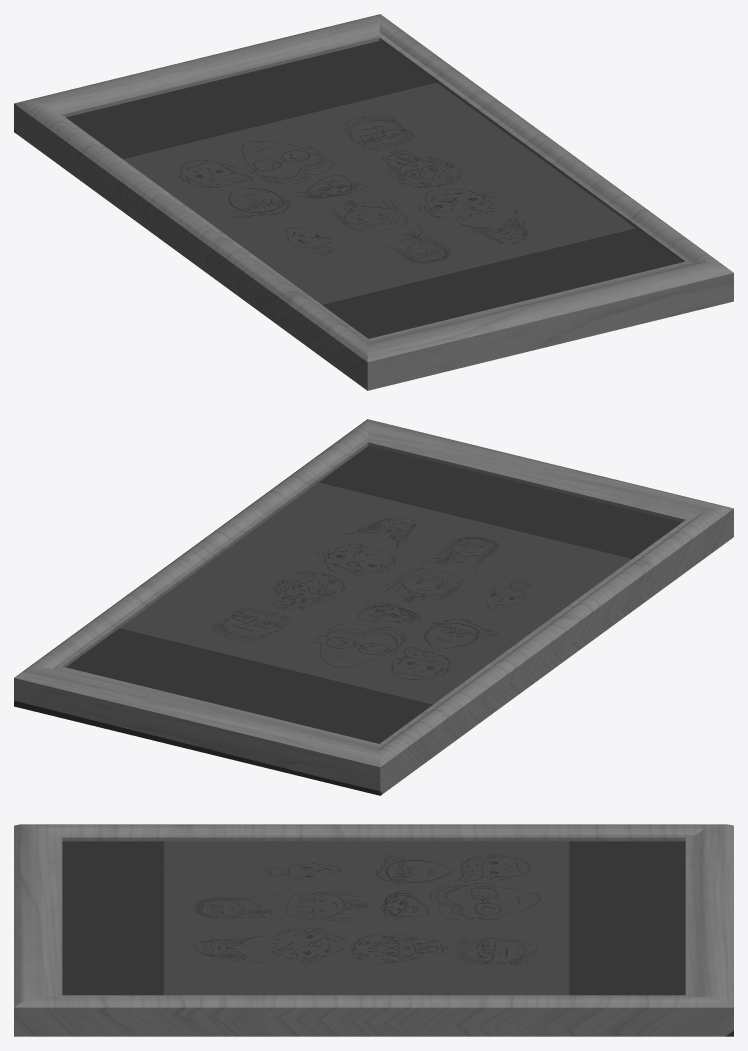
File: SM_Paint_collectible_A.fbx
The picture shows the model from 3 angles, top to bottom: view 1: azimuth 30°, elevation 25°; view 2: azimuth 150°, elevation 25°; view 3: azimuth 270°, elevation 25°; orthographic projection.
Parts seen in each view (by area): view 1: SM_paint_collectionable_A; view 2: SM_paint_collectionable_A; view 3: SM_paint_collectionable_A.
Part boxes in pixels (x1,y1,x2,y2): SM_paint_collectionable_A: (14,14,733,390); SM_paint_collectionable_A: (14,419,733,795); SM_paint_collectionable_A: (14,824,733,1036).
Size of the model in its own units: 200 by 17.52 by 334.
